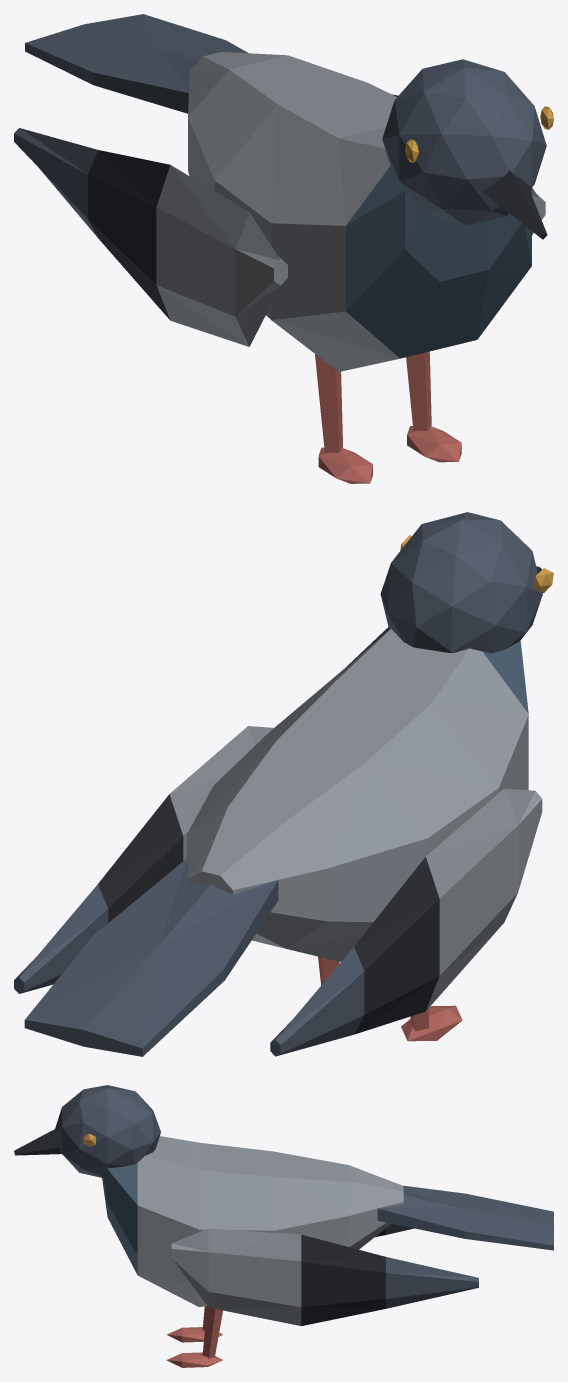
The model's file is Pigeon.fbx.
3 renders of one model, top to bottom at view 1: azimuth 30°, elevation 25°; view 2: azimuth 150°, elevation 25°; view 3: azimuth 270°, elevation 25°, orthographic. The views are drawn at different scales.
Visible parts, largest first — view 1: Pigeon_Body, Pigeon_WingR_Mesh, Pigeon_Head; view 2: Pigeon_Body, Pigeon_WingR_Mesh, Pigeon_Head, Pigeon_WingL_Mesh; view 3: Pigeon_Body, Pigeon_WingL_Mesh, Pigeon_Head.
Part boxes in pixels (x1,y1,x2,y2): Pigeon_Body: (25,14,531,483); Pigeon_WingR_Mesh: (14,128,287,346); Pigeon_Head: (382,59,553,239); Pigeon_Body: (24,627,528,1056); Pigeon_WingR_Mesh: (270,788,542,1056); Pigeon_Head: (380,512,553,653); Pigeon_WingL_Mesh: (14,726,273,993); Pigeon_Body: (102,1136,553,1367); Pigeon_WingL_Mesh: (171,1228,478,1325); Pigeon_Head: (14,1085,160,1177).
Bounding box in the file's own units: 0.1419 × 0.3956 × 0.2137.
